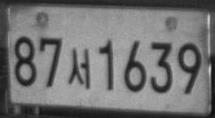1: (96, 38, 120, 90)
3: (149, 41, 173, 94)
6: (123, 40, 147, 93)
7: (39, 37, 62, 88)
8: (13, 35, 37, 86)
9: (177, 41, 202, 94)
서: (67, 47, 90, 89)
